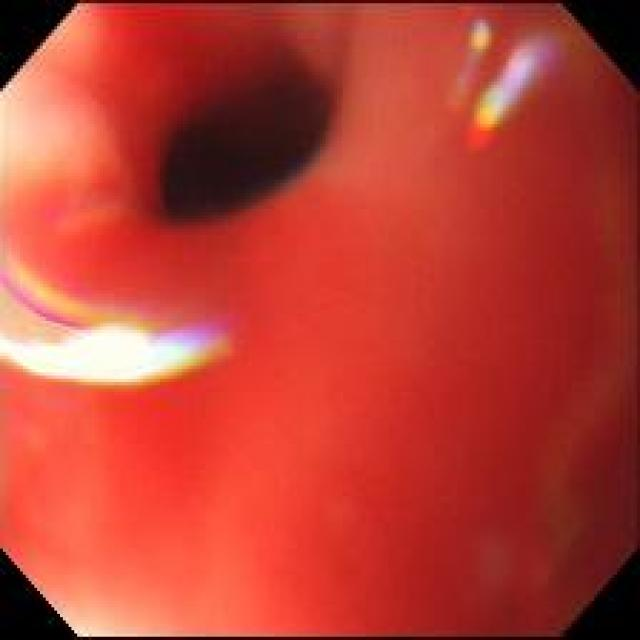blur: (0, 5, 636, 637)
color misalignment: (469, 33, 560, 151), (2, 251, 99, 342), (155, 309, 231, 387), (461, 13, 501, 58)
contrast: (152, 37, 334, 240)
saturation: (2, 73, 70, 171), (54, 575, 160, 636)
specularity: (8, 334, 166, 379)
